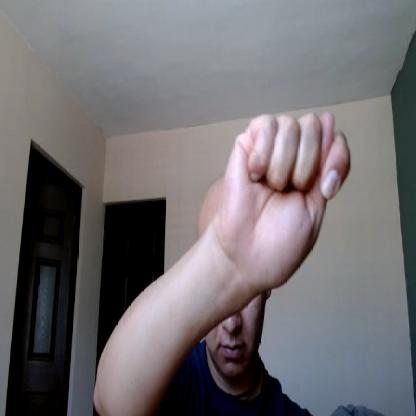T: (220, 105, 356, 291)
